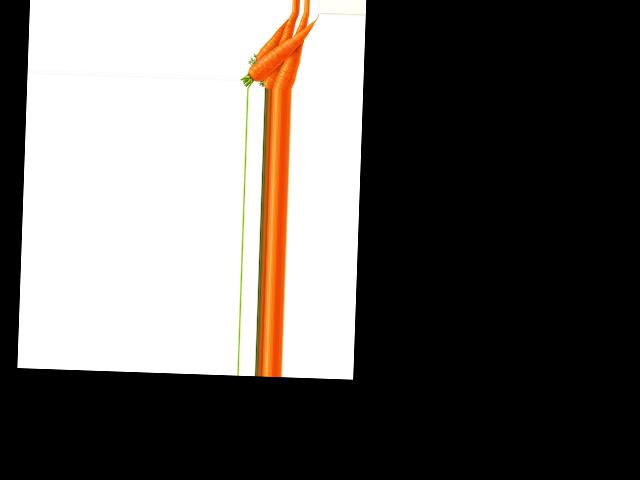carrot: (273, 29, 299, 90)
